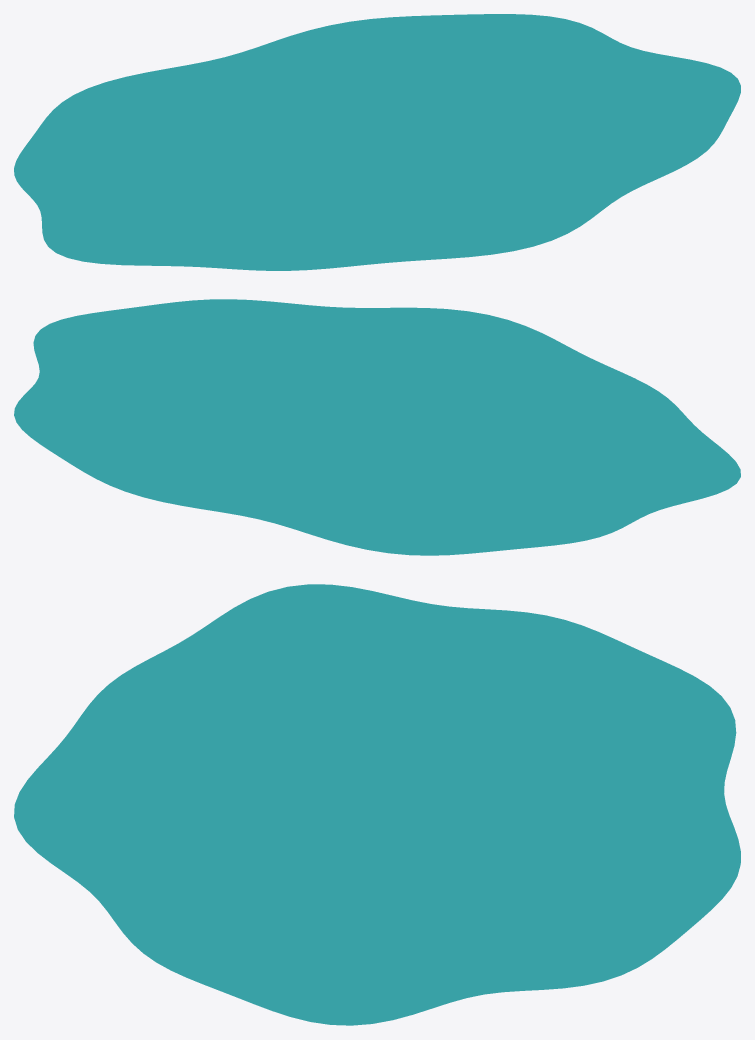
File: SM_TurquoiseOasisWater.fbx
3 renders of one model, top to bottom at view 1: azimuth 30°, elevation 25°; view 2: azimuth 150°, elevation 25°; view 3: azimuth 270°, elevation 25°, orthographic. The views are drawn at different scales.
Parts seen in each view (by area): view 1: SM_TurquoiseOasisWater_Export; view 2: SM_TurquoiseOasisWater_Export; view 3: SM_TurquoiseOasisWater_Export.
Part boxes in pixels (x1,y1,x2,y2): SM_TurquoiseOasisWater_Export: [14, 14, 740, 270]; SM_TurquoiseOasisWater_Export: [14, 299, 740, 555]; SM_TurquoiseOasisWater_Export: [14, 584, 740, 1025].
Size of the model in its own units: 2746 by 1911 by 0.
